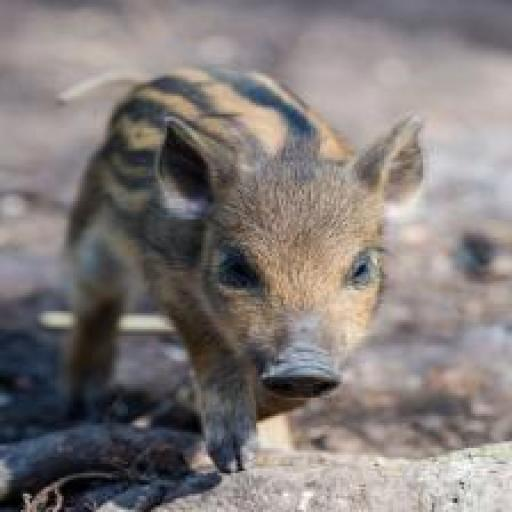Pig: (55, 64, 424, 472)
